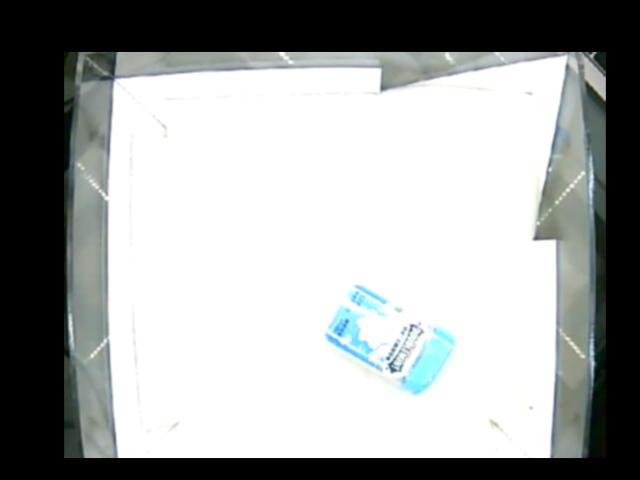Bottle: (321, 287, 458, 396)
